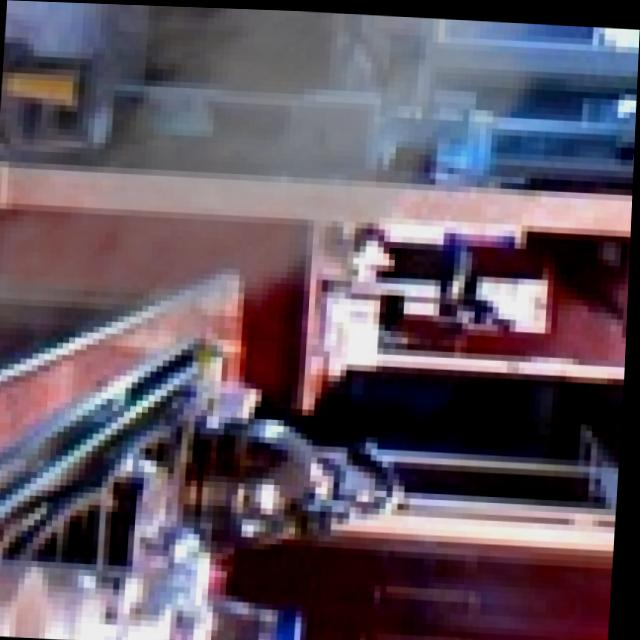smoke: (0, 0, 604, 461)
